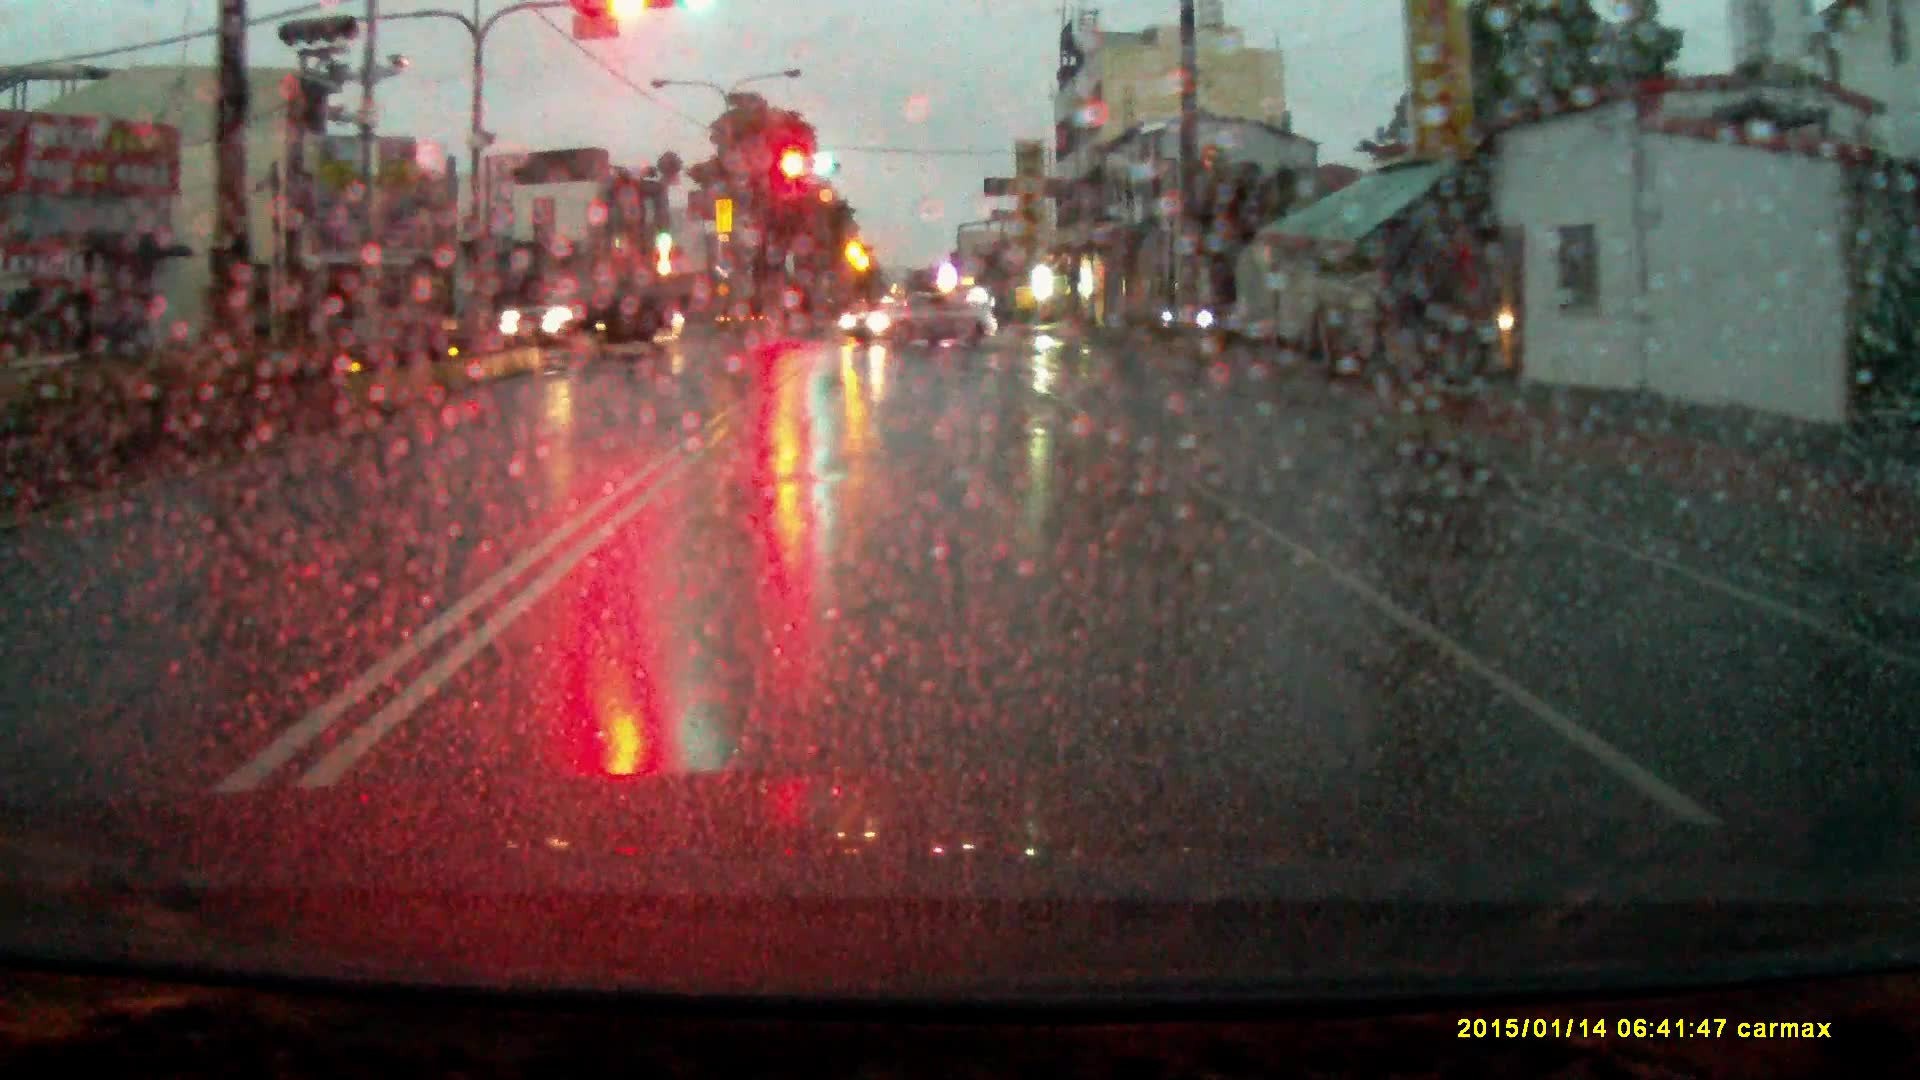vehicle: (498, 276, 687, 361), (843, 287, 1000, 349)
